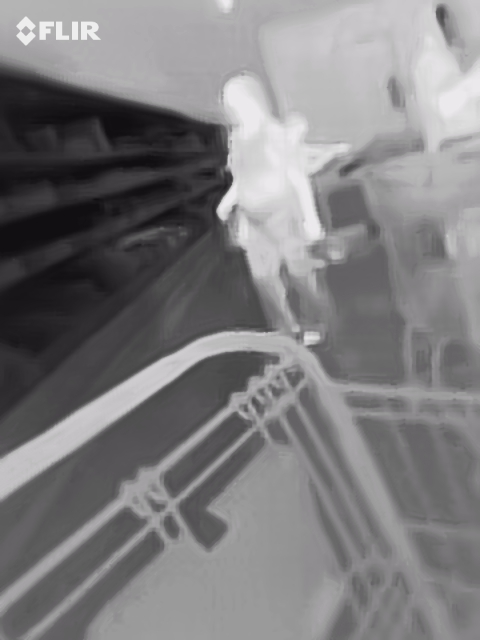head: (219, 68, 272, 130)
